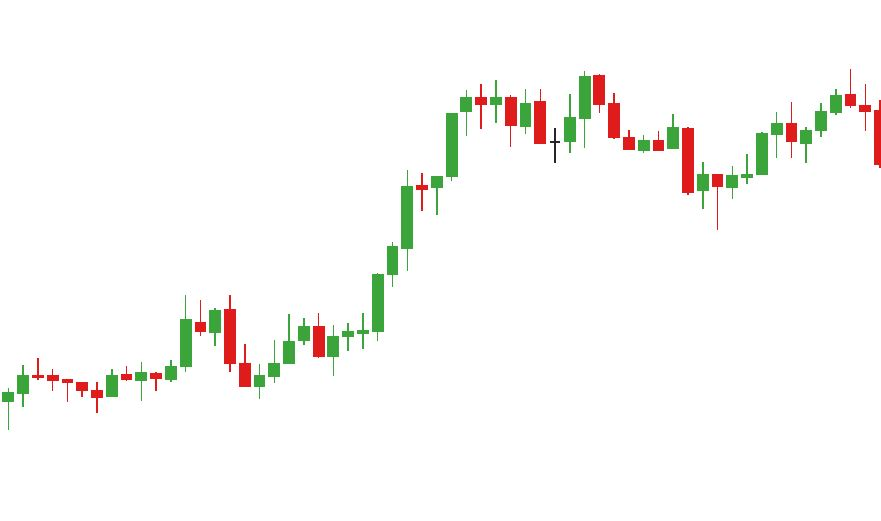buy: (150, 319, 267, 401)
sell: (488, 71, 606, 138)
